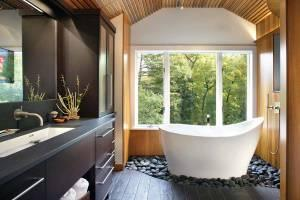window: (134, 47, 249, 131)
